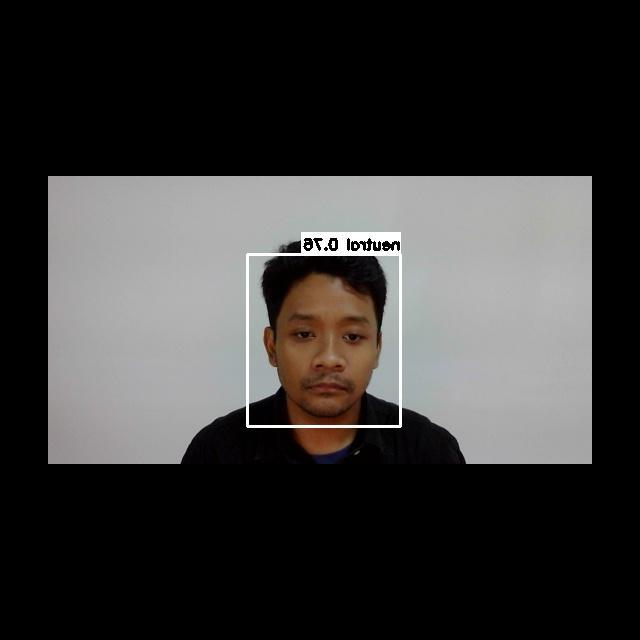Natural: (285, 309, 372, 405)
